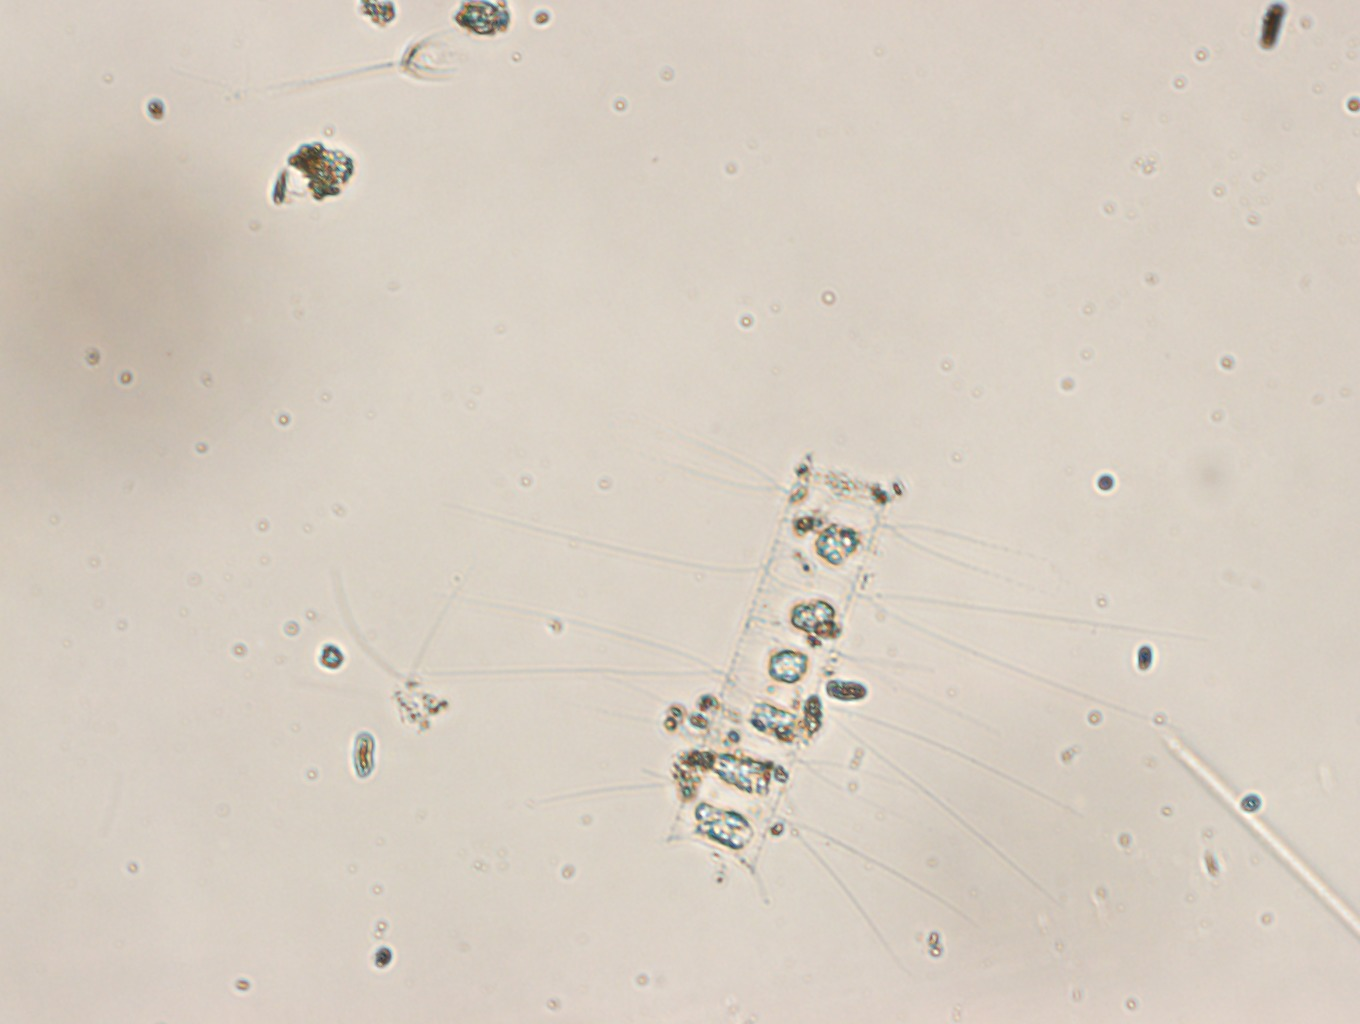chaetoceros: (468, 431, 1158, 985)
